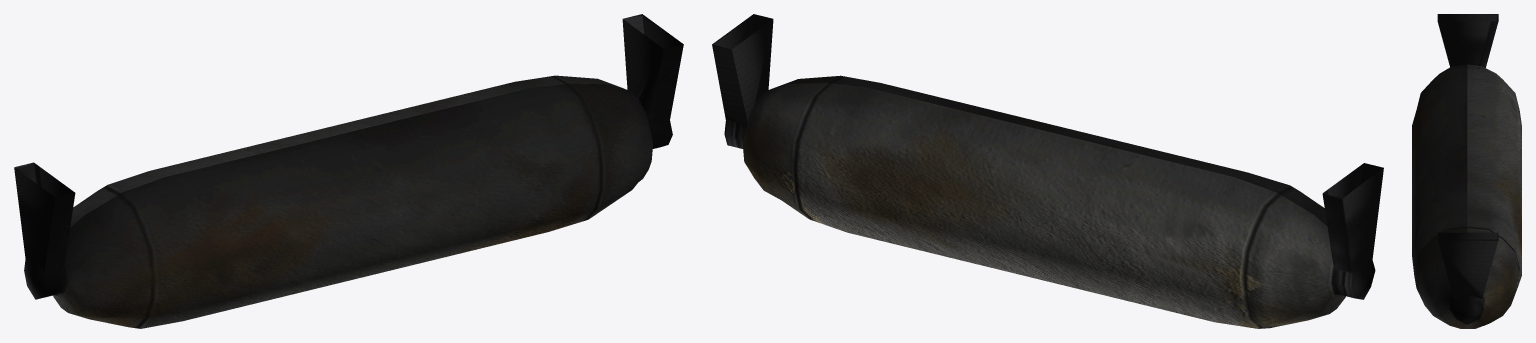
Rendered from longt1.obj.
3 renders of one model, left to right at view 1: azimuth 30°, elevation 25°; view 2: azimuth 150°, elevation 25°; view 3: azimuth 270°, elevation 25°, orthographic. The views are drawn at different scales.
Parts seen in each view (by area): view 1: Group; view 2: Group; view 3: Group.
Part boxes in pixels (<box>): Group: <box>14,14,683,328</box>; Group: <box>712,14,1383,328</box>; Group: <box>1412,14,1521,328</box>.
Size of the model in its own units: 50.73 by 12.38 by 10.39.
